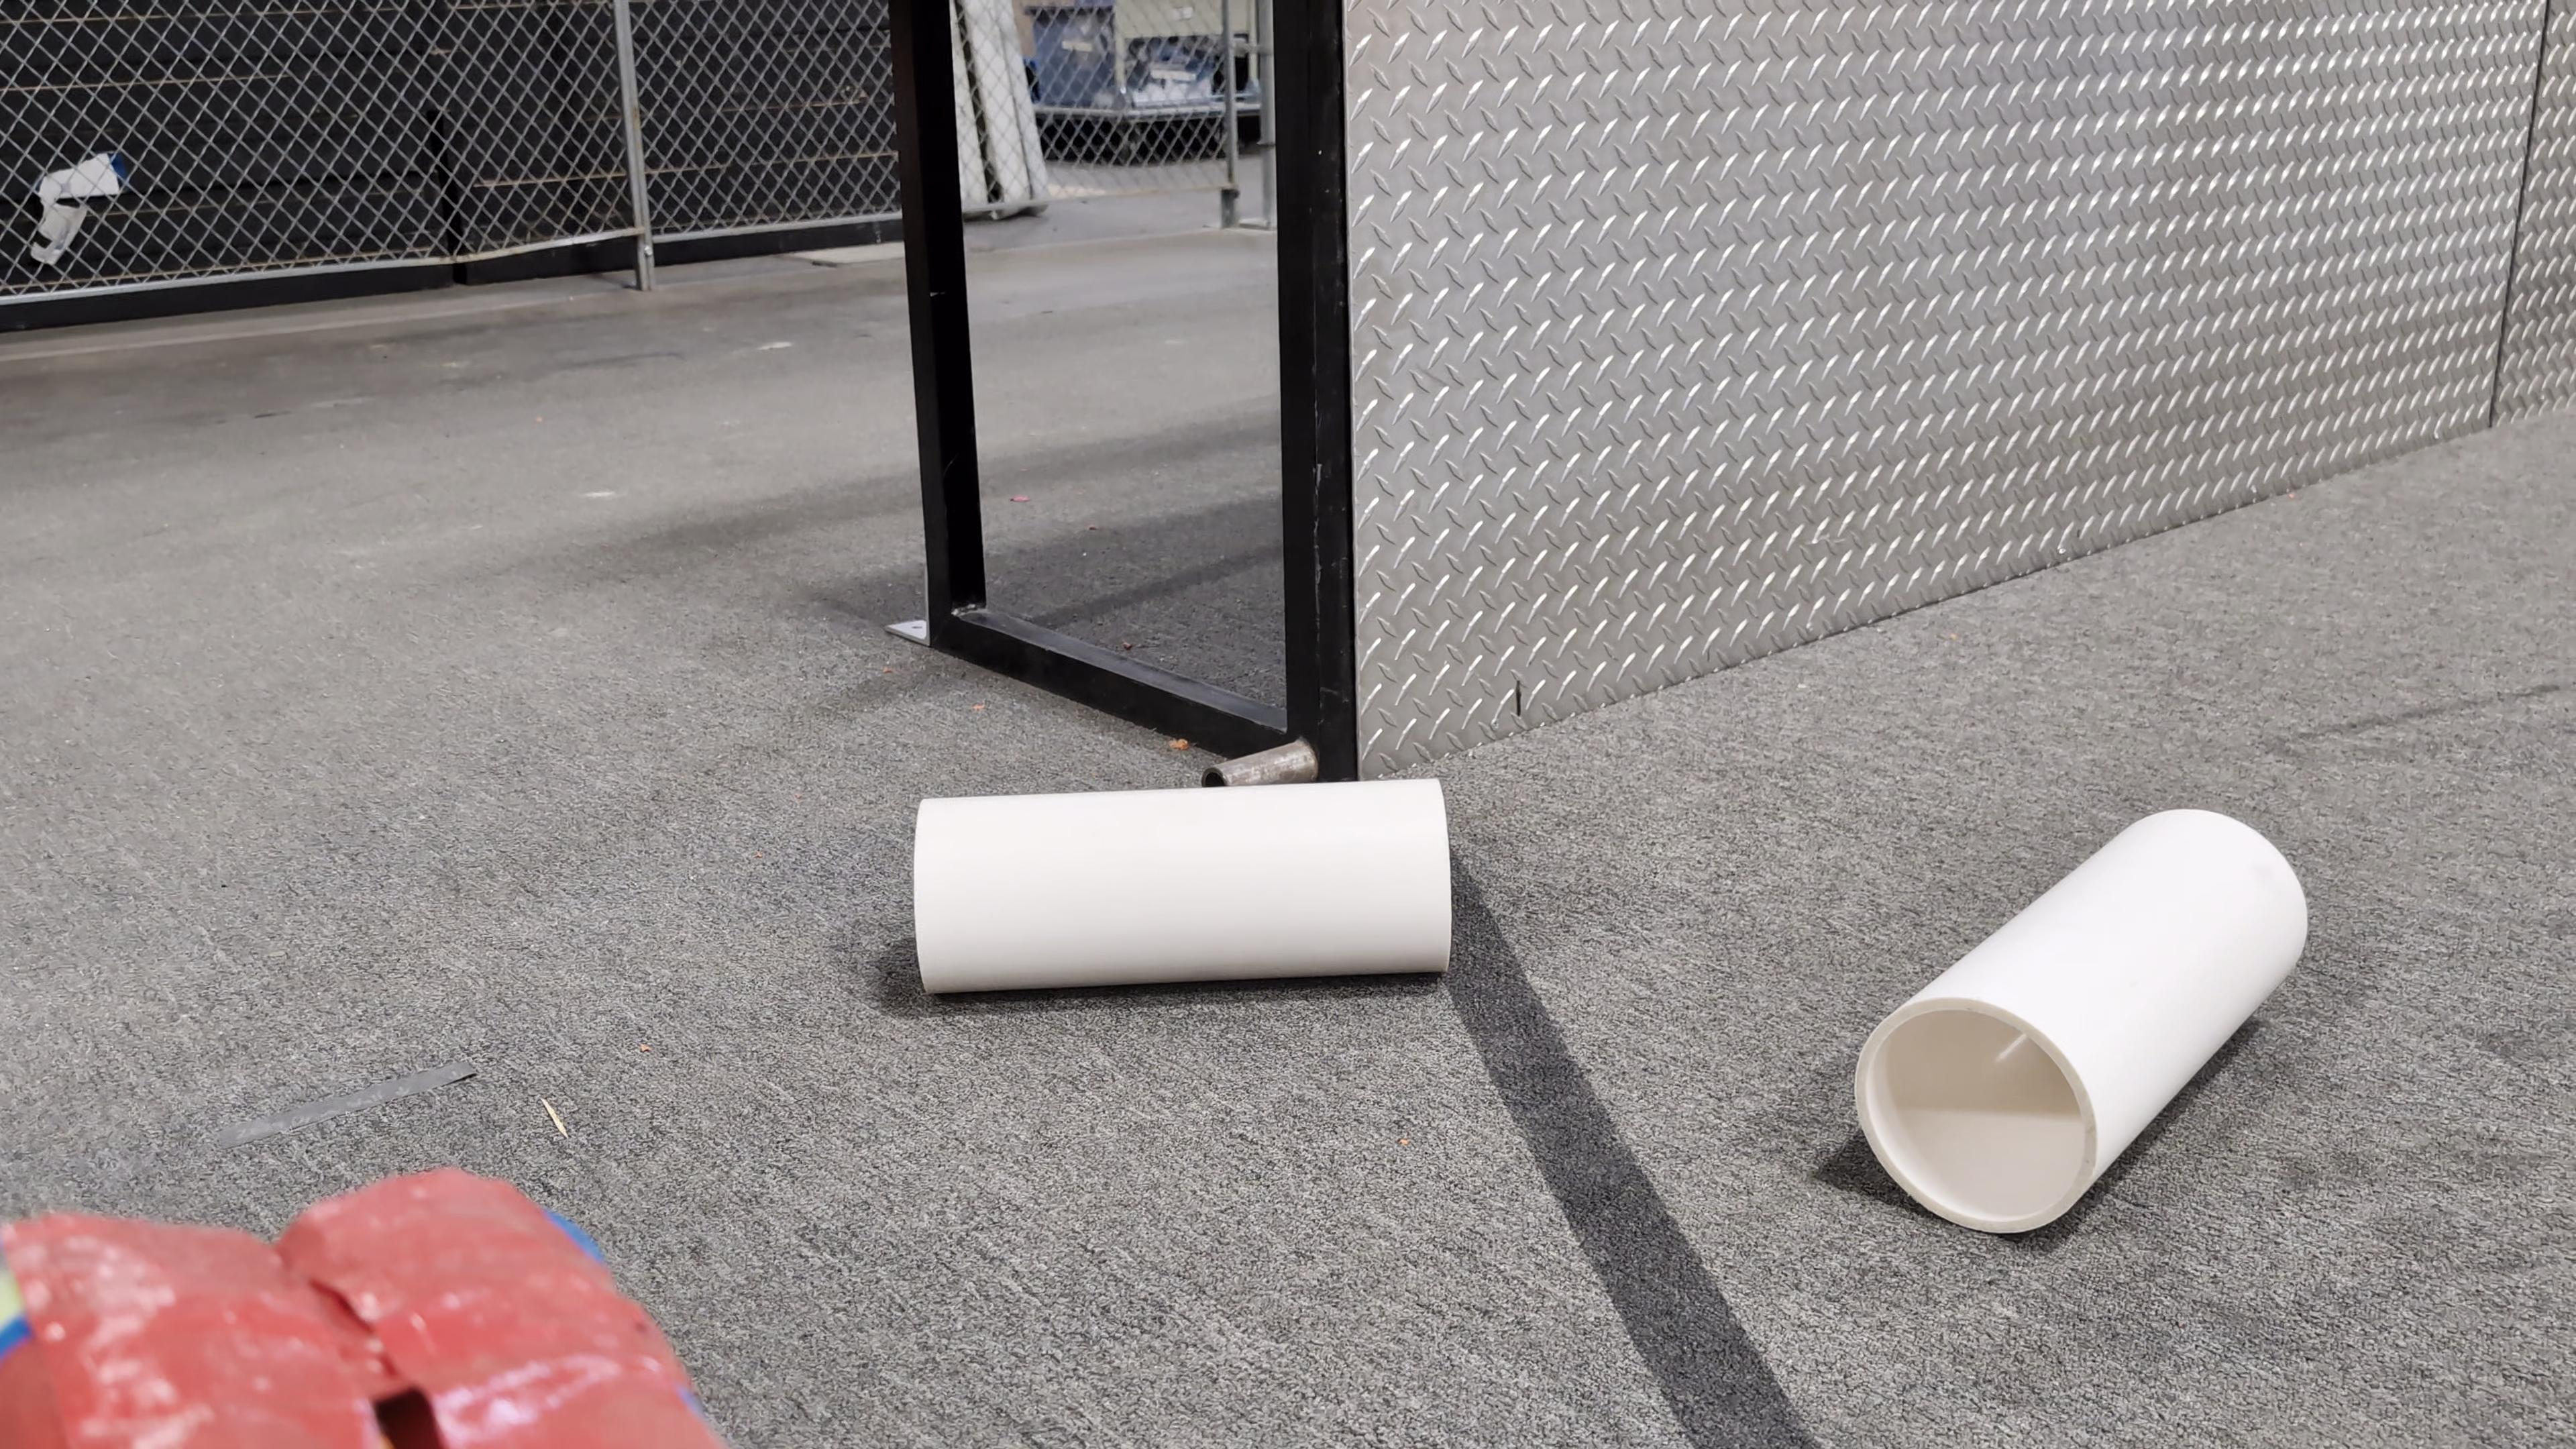coral: (1854, 803, 2309, 1230), (911, 771, 1458, 994)
